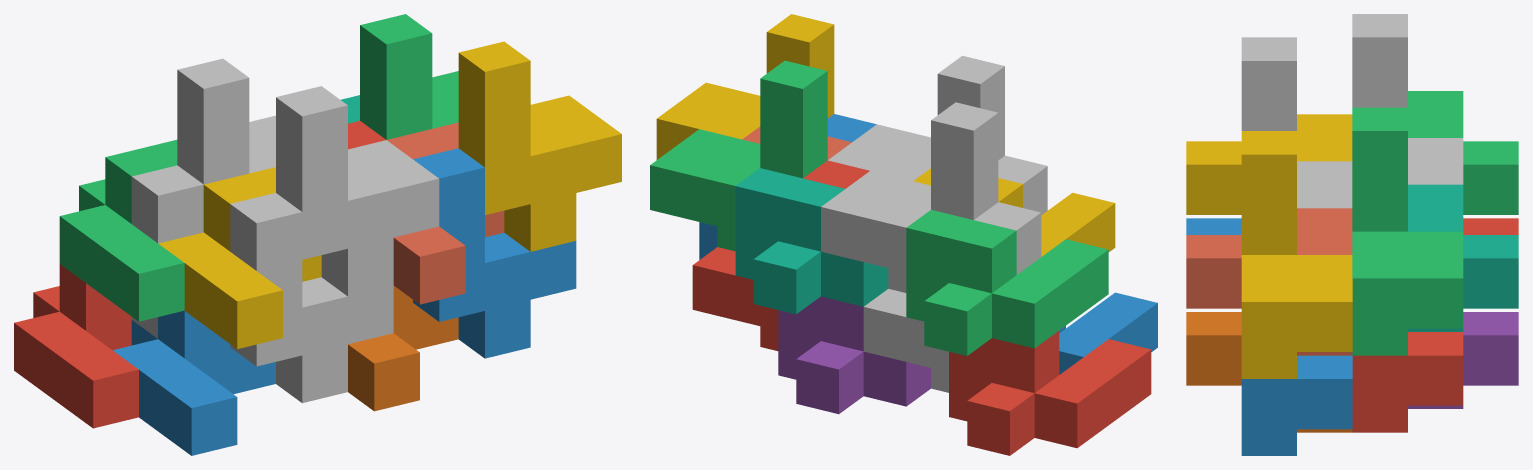
File: tiling.obj
3 renders of one model, left to right at view 1: azimuth 30°, elevation 25°; view 2: azimuth 150°, elevation 25°; view 3: azimuth 270°, elevation 25°, orthographic. The views are drawn at different scales.
Visible parts, largest first — view 1: copy_2_domain_8, copy_2_domain_4, copy_2_domain_2, copy_2_domain_6, copy_1_domain_1, copy_1_domain_2, copy_1_domain_3, copy_1_domain_4, copy_2_domain_3, copy_2_domain_7, copy_1_domain_6, copy_1_domain_8 (+2 smaller); view 2: copy_1_domain_3, copy_1_domain_1, copy_2_domain_7, copy_2_domain_3, copy_1_domain_7, copy_1_domain_5, copy_2_domain_8, copy_2_domain_4, copy_2_domain_1, copy_2_domain_5, copy_1_domain_2, copy_1_domain_4 (+3 smaller); view 3: copy_2_domain_7, copy_2_domain_8, copy_2_domain_6, copy_2_domain_5, copy_2_domain_4, copy_2_domain_3, copy_1_domain_7, copy_1_domain_8, copy_1_domain_4, copy_1_domain_3, copy_1_domain_6, copy_1_domain_5 (+2 smaller).
Part boxes in pixels (<box>): copy_2_domain_8: <box>458,41,621,251</box>; copy_2_domain_4: <box>276,86,439,296</box>; copy_2_domain_2: <box>230,193,393,403</box>; copy_2_domain_6: <box>413,148,576,358</box>; copy_1_domain_1: <box>14,264,138,428</box>; copy_1_domain_2: <box>113,310,275,455</box>; copy_1_domain_3: <box>59,139,184,321</box>; copy_1_domain_4: <box>158,167,321,349</box>; copy_2_domain_3: <box>177,58,275,184</box>; copy_2_domain_7: <box>360,14,458,139</box>; copy_1_domain_6: <box>348,286,458,411</box>; copy_1_domain_8: <box>387,122,504,304</box>; copy_1_domain_3: <box>906,210,1108,355</box>; copy_1_domain_1: <box>949,331,1151,455</box>; copy_2_domain_7: <box>650,60,827,251</box>; copy_2_domain_3: <box>821,102,998,292</box>; copy_1_domain_7: <box>735,168,888,314</box>; copy_1_domain_5: <box>778,296,930,414</box>; copy_2_domain_8: <box>656,14,834,159</box>; copy_2_domain_4: <box>828,55,1004,180</box>; copy_2_domain_1: <box>863,202,1041,392</box>; copy_2_domain_5: <box>692,160,869,350</box>; copy_1_domain_2: <box>1059,292,1157,374</box>; copy_1_domain_4: <box>913,168,1115,256</box>; copy_2_domain_7: <box>1352,107,1463,355</box>; copy_2_domain_8: <box>1241,131,1352,378</box>; copy_2_domain_6: <box>1241,355,1352,455</box>; copy_2_domain_5: <box>1352,332,1463,432</box>; copy_2_domain_4: <box>1241,37,1352,208</box>; copy_2_domain_3: <box>1352,14,1463,184</box>; copy_1_domain_7: <box>1408,184,1518,331</box>; copy_1_domain_8: <box>1186,208,1352,355</box>; copy_1_domain_4: <box>1186,114,1352,214</box>; copy_1_domain_3: <box>1408,91,1518,214</box>; copy_1_domain_6: <box>1186,312,1352,432</box>; copy_1_domain_5: <box>1408,312,1518,408</box>.
Bounding box in the file's own units: 11 × 6 × 6.
